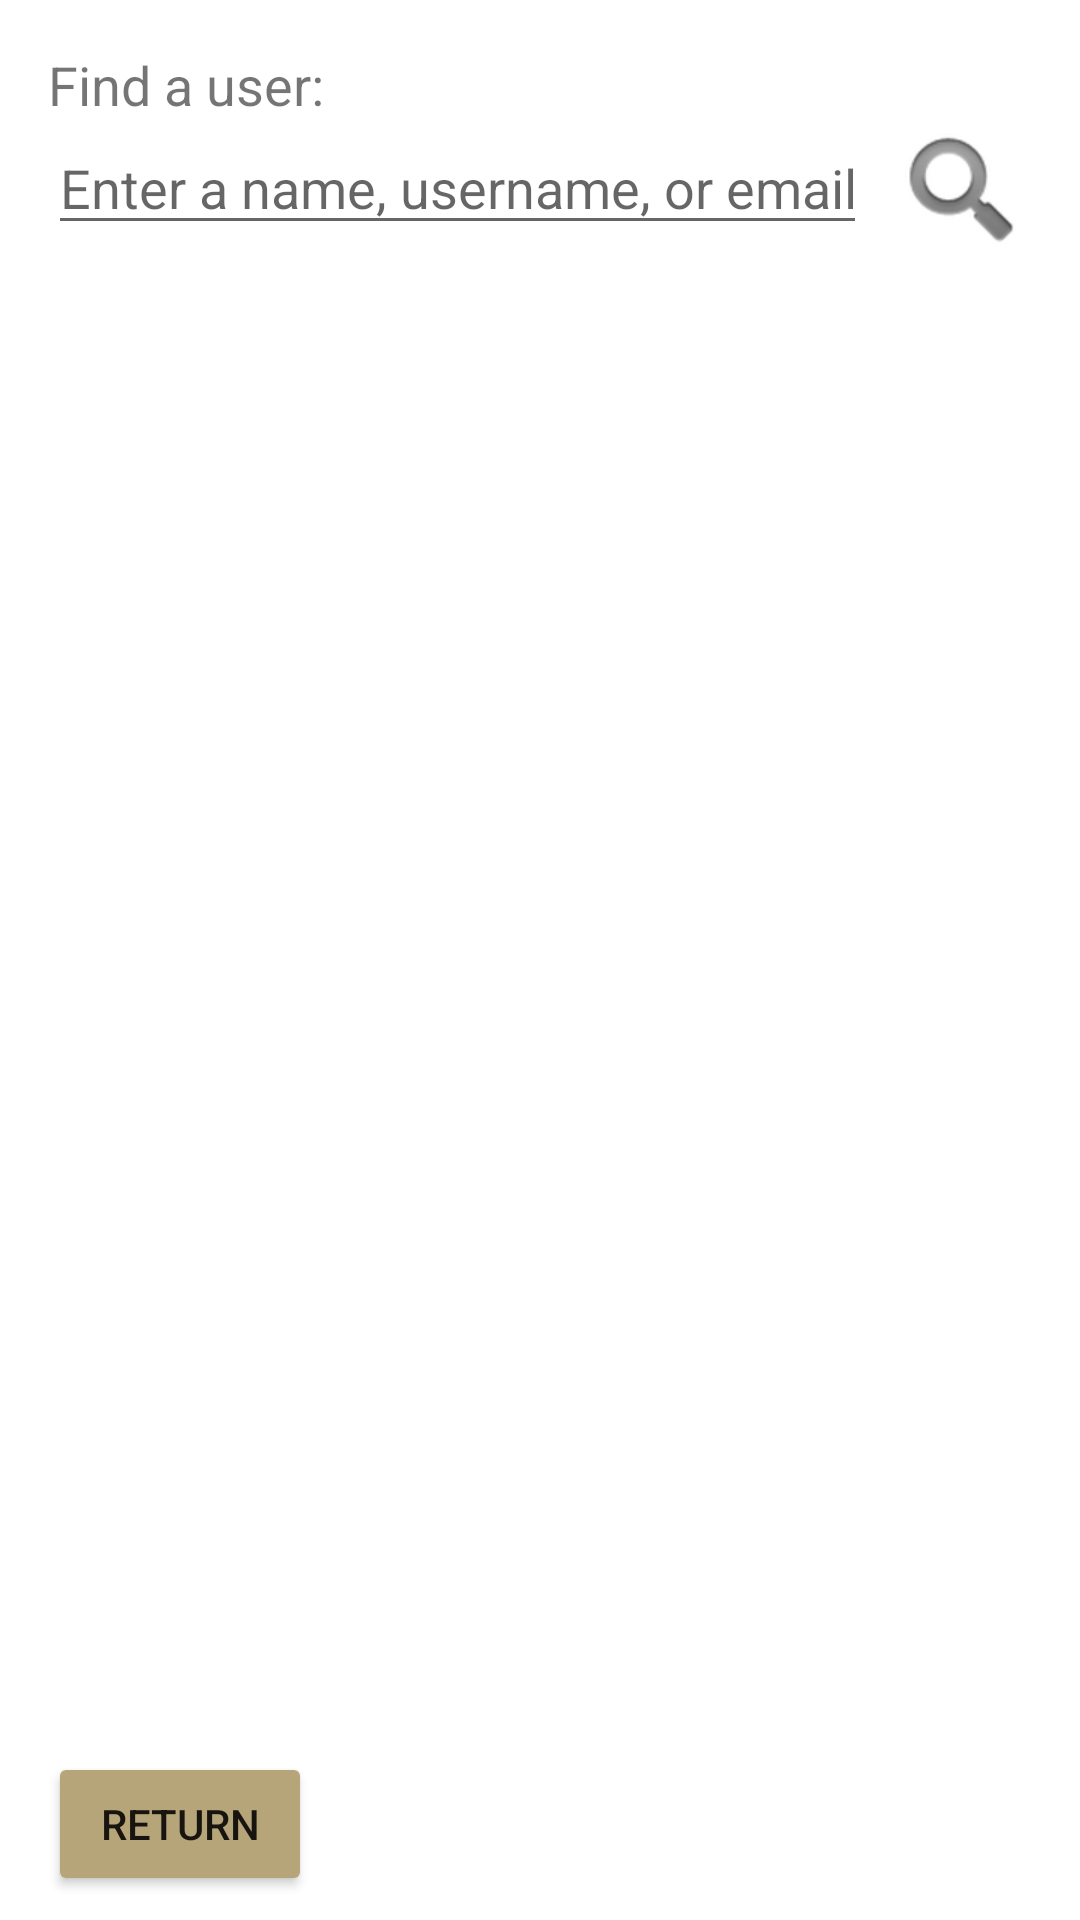

Screen size 1080x1920. Icon name, then its box in pixels as (x1, y1, x2, y2):
search category: (909, 137, 1013, 241)
